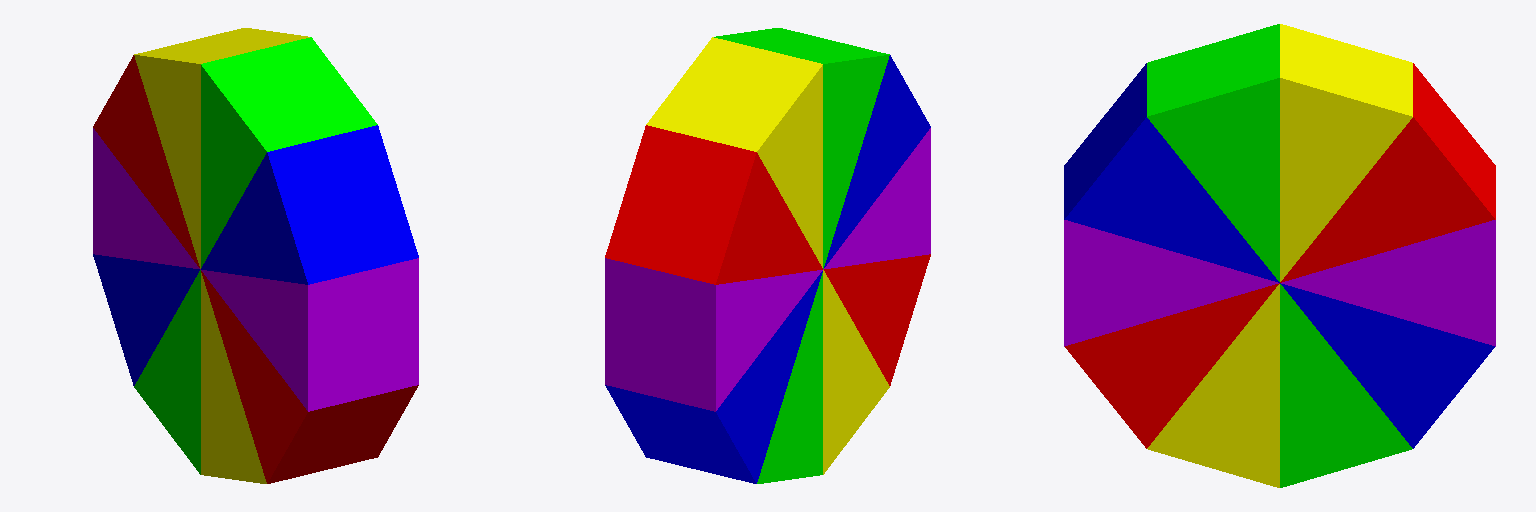
The model's file is model_slot_colordrum.obj.
The picture shows the model from 3 angles: view 1: azimuth 30°, elevation 25°; view 2: azimuth 150°, elevation 25°; view 3: azimuth 270°, elevation 25°; orthographic projection.
Parts seen in each view (by area): view 1: pCylinder1; view 2: pCylinder1; view 3: pCylinder1.
Boxes of the visible parts, x1,y1,x2,y2 form: pCylinder1: [93, 28, 418, 483]; pCylinder1: [605, 28, 930, 483]; pCylinder1: [1064, 24, 1495, 487].
Bounding box in the file's own units: 0.375 × 1.33 × 1.26.